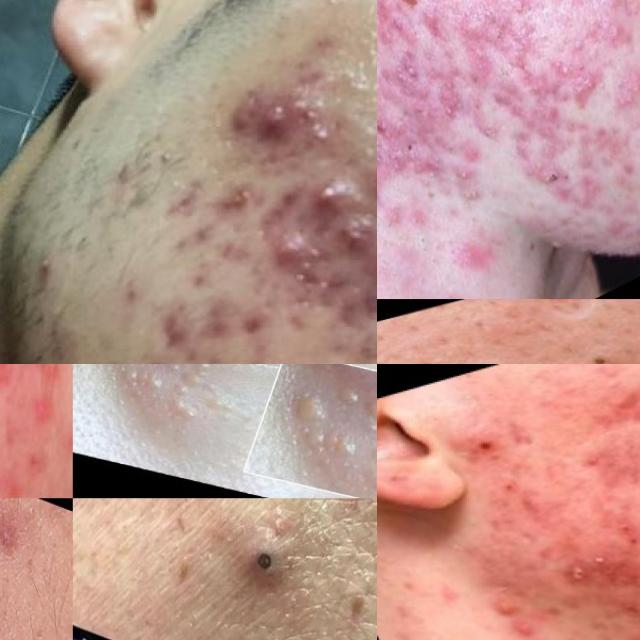acne_scars: (499, 299, 636, 340), (139, 312, 191, 358), (16, 438, 51, 498), (604, 369, 640, 416)
comedone: (233, 517, 300, 602), (553, 341, 636, 364), (475, 358, 515, 364)
cystic: (485, 588, 525, 625)
papule: (245, 235, 318, 273), (255, 99, 293, 158), (308, 170, 360, 210), (351, 214, 376, 256)
sebo-crystan-conglo: (383, 39, 429, 102), (377, 100, 428, 156), (377, 140, 425, 192), (556, 67, 600, 118), (587, 16, 626, 60), (429, 71, 462, 119), (609, 72, 640, 115)
syringoma: (284, 372, 377, 443), (287, 422, 363, 467), (140, 374, 208, 422), (348, 443, 377, 498), (166, 364, 220, 379)
